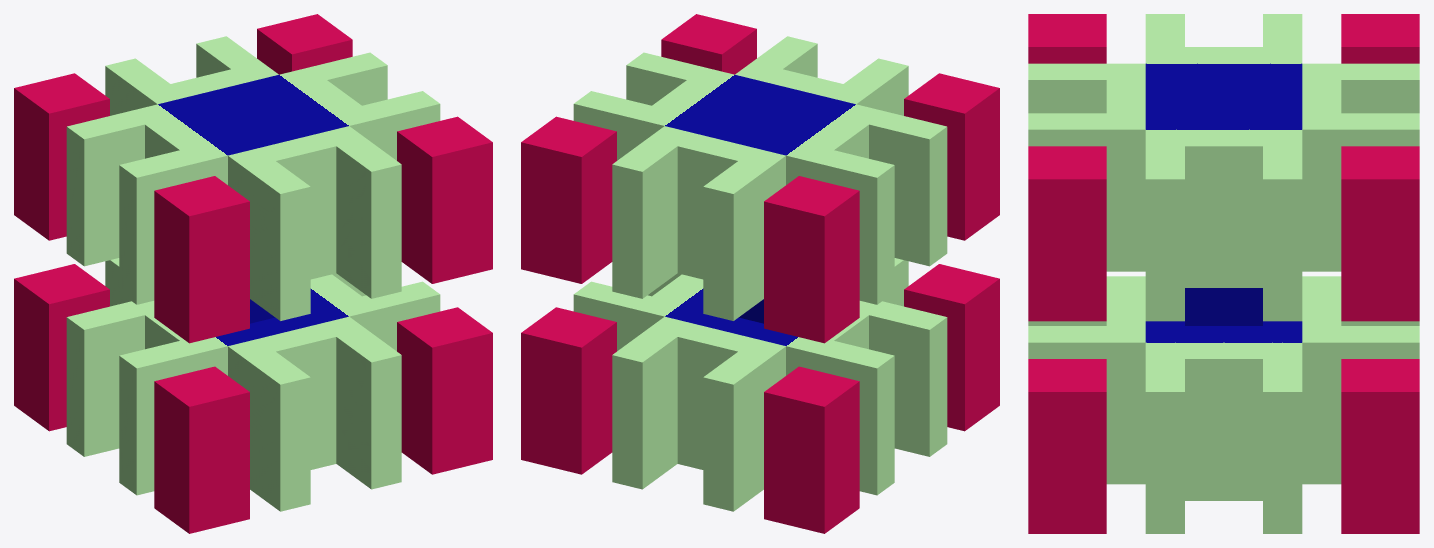
The model's file is Wass.fbx.
3 views of the same model, side by side, from view 1: azimuth 30°, elevation 25°; view 2: azimuth 150°, elevation 25°; view 3: azimuth 270°, elevation 25° (orthographic). The views are drawn at different scales.
Visible parts, largest first — view 1: Wass; view 2: Wass; view 3: Wass.
Part boxes in pixels (box(x1,y1,x2,y2)): Wass: box(14, 14, 492, 533); Wass: box(521, 14, 999, 533); Wass: box(1028, 14, 1419, 533).
Size of the model in its own units: 10 by 10 by 10.
Materials: 1 (1 with a texture image).
